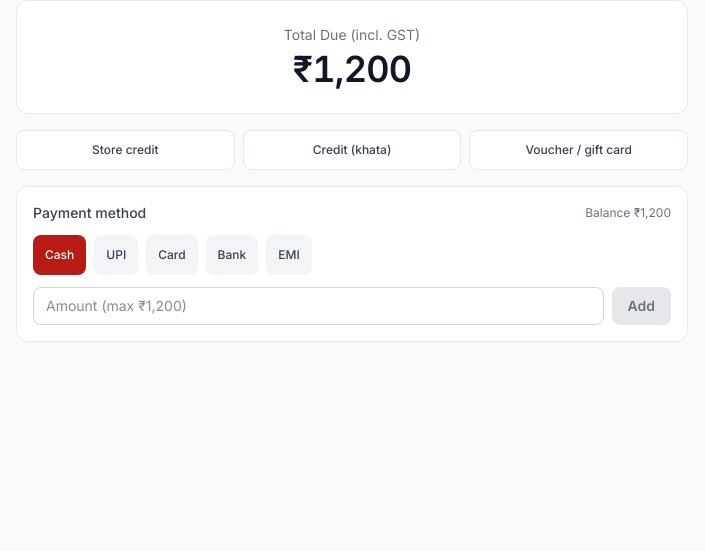
Test: POS store-credit tender (cart mode) › KEY: typing MORE than the available credit is refused — no leg added
Click the button "Store credit" at (125, 150), box left=16, top=130, right=235, bottom=170
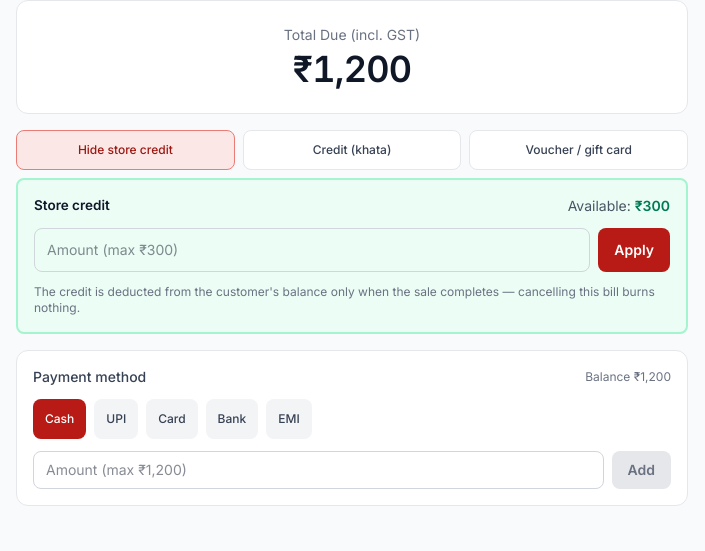
Now the text "₹300" is shown, box left=635, top=197, right=670, bottom=214
Type "900" into the number field with placeholder "Amount (max ₹300)" at (312, 250), box left=34, top=228, right=590, bottom=272
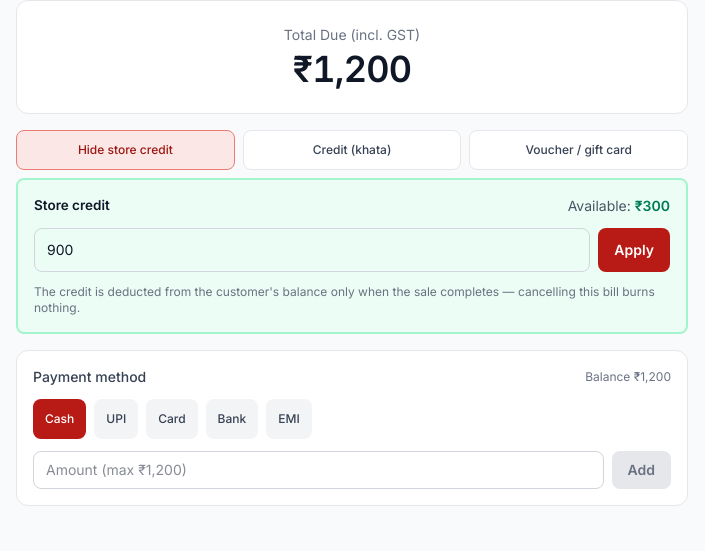
Click the button "Apply" at (634, 250), box left=598, top=228, right=670, bottom=272
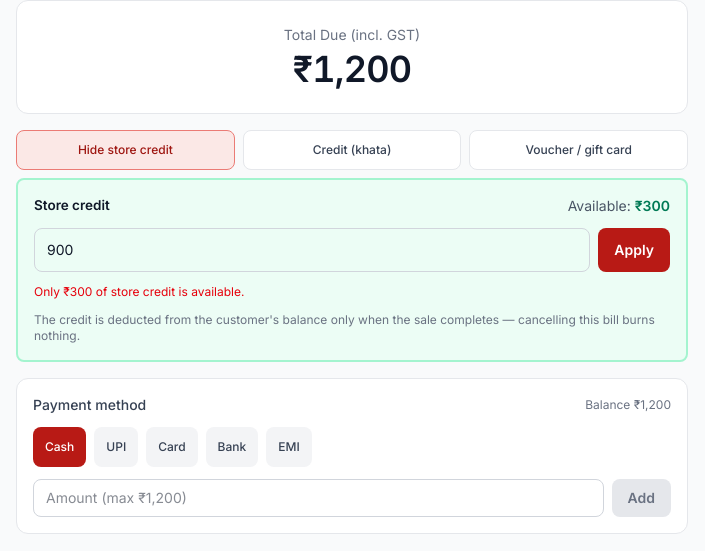
Now the text "Only ₹300 of store credit is available." is shown, box left=34, top=284, right=244, bottom=299
